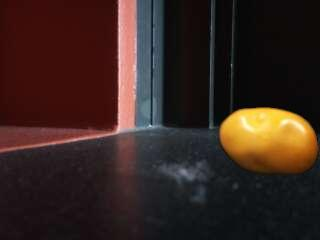Potato: (218, 107, 318, 176)
